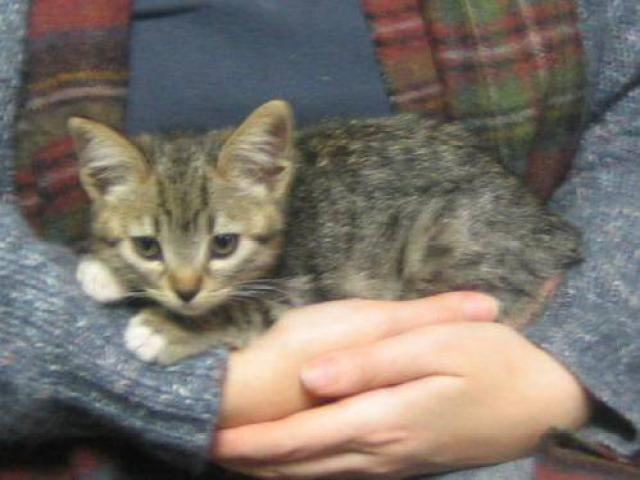cat: (64, 102, 596, 380)
